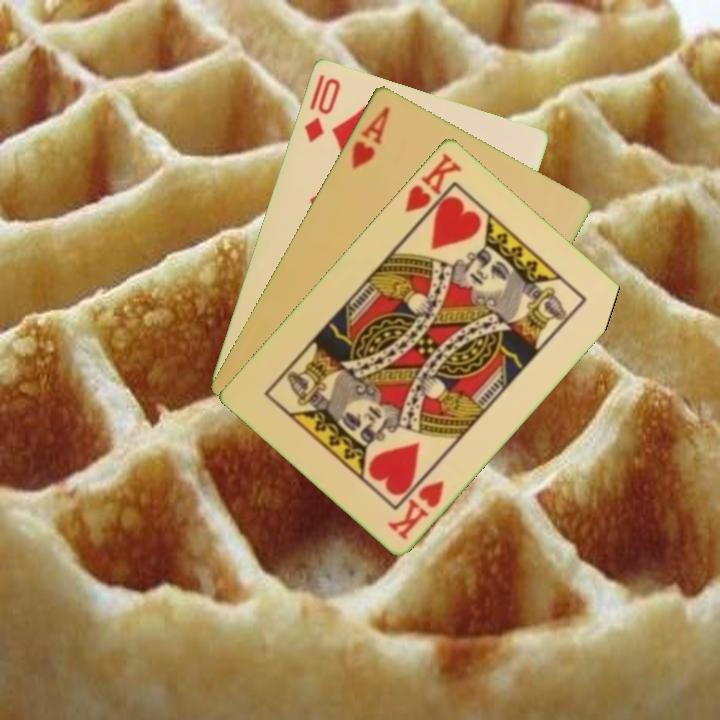10d: (300, 73, 343, 145)
Ah: (347, 102, 393, 172)
Kh: (400, 149, 465, 228), (384, 476, 448, 542)
